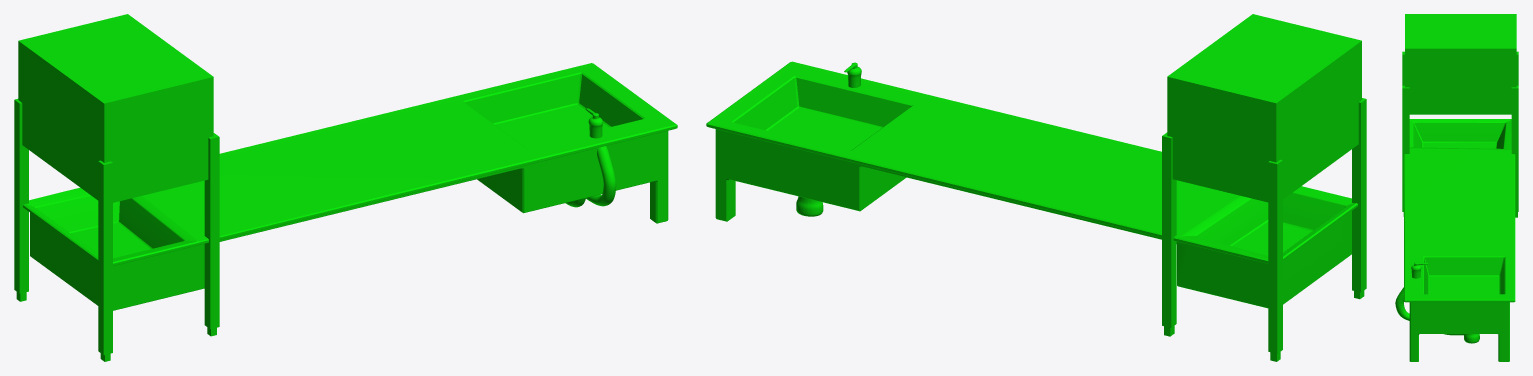
The model's file is KitchenTableThing1.fbx.
3 renders of one model, left to right at view 1: azimuth 30°, elevation 25°; view 2: azimuth 150°, elevation 25°; view 3: azimuth 270°, elevation 25°, orthographic. The views are drawn at different scales.
Visible parts, largest first — view 1: TableThing1; view 2: TableThing1; view 3: TableThing1.
Boxes of the visible parts, x1=… form: TableThing1: x1=14, y1=14, x2=677, y2=361; TableThing1: x1=706, y1=14, x2=1366, y2=361; TableThing1: x1=1395, y1=14, x2=1518, y2=361.
Bounding box in the file's own units: 694 × 298 × 198.
